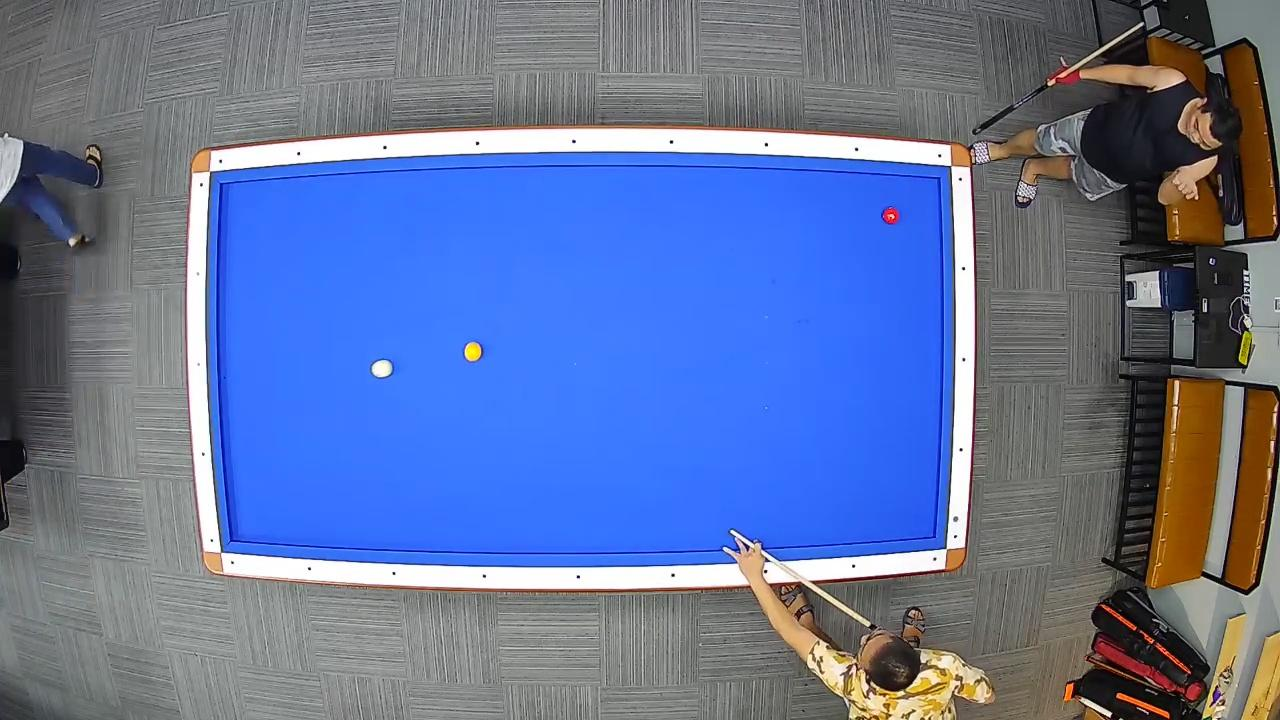Red: (882, 206, 898, 224)
White: (369, 357, 394, 380)
Yellow: (463, 340, 483, 364)
